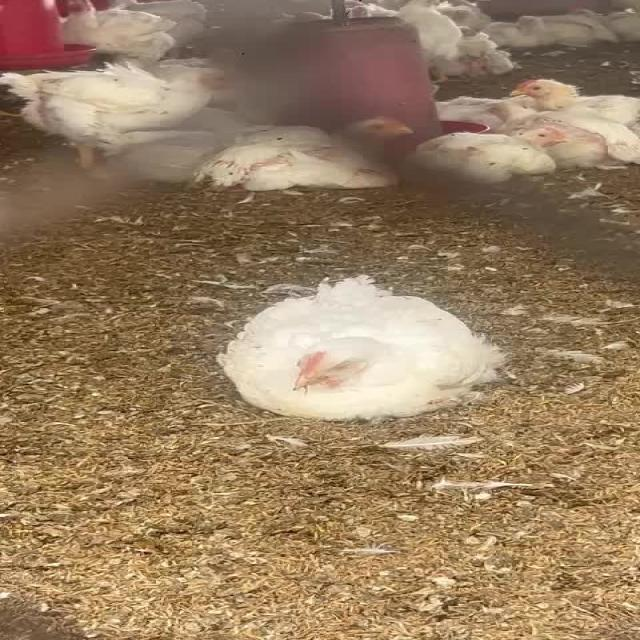AbNormal: (230, 280, 478, 414), (211, 114, 417, 191), (420, 124, 572, 179), (506, 78, 640, 129)
Normal: (8, 62, 238, 150)
